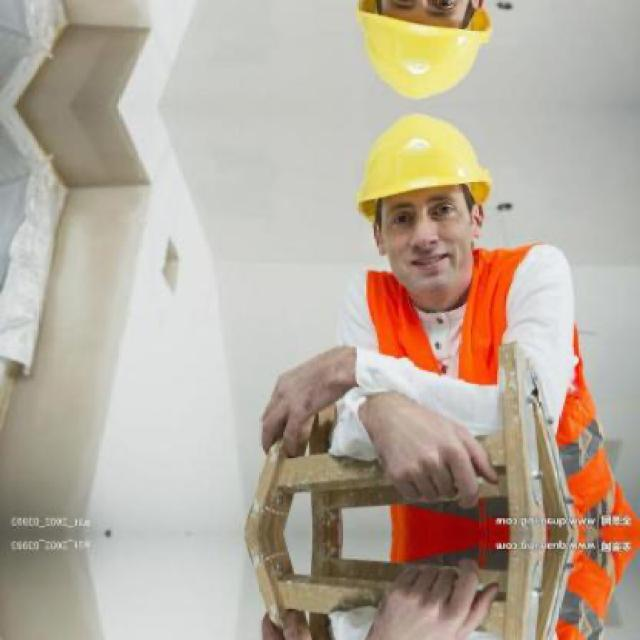con casco: (341, 122, 532, 374)
